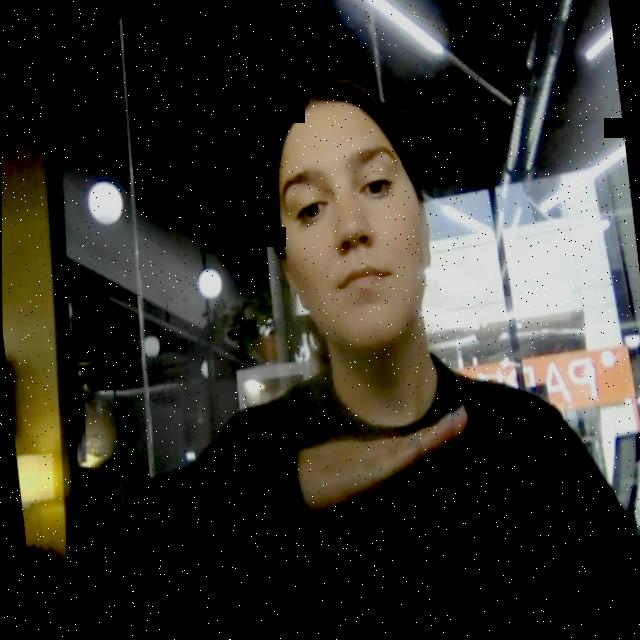Paper: (288, 390, 497, 531)
